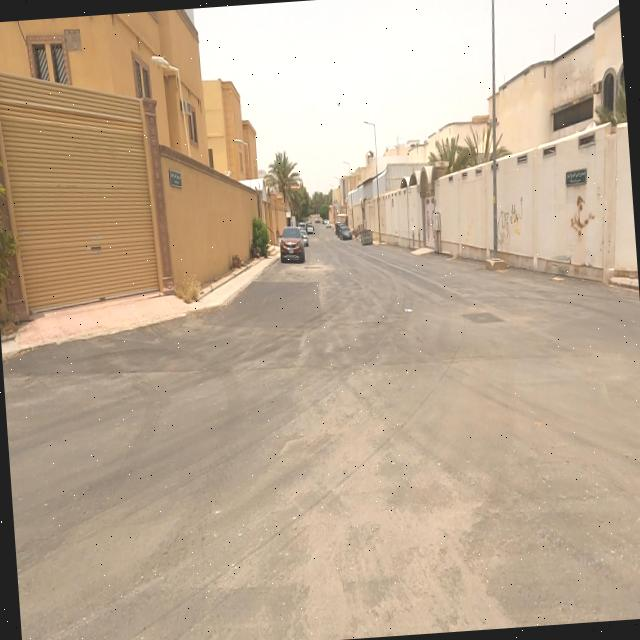Graffiti: (497, 189, 529, 247), (568, 191, 599, 243)
